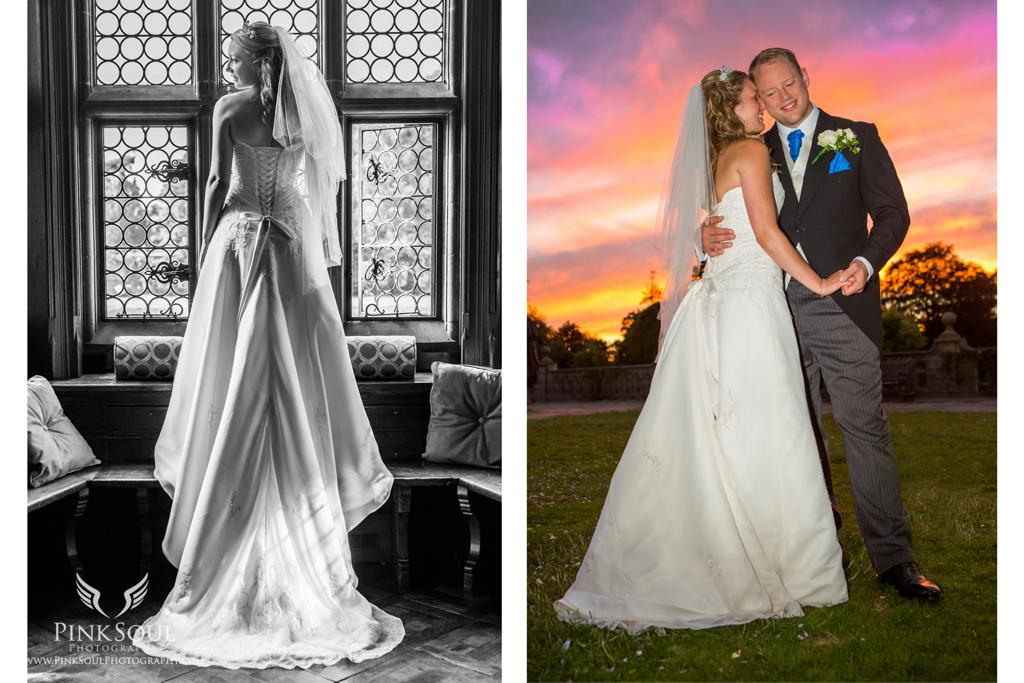face: (755, 61, 807, 124), (737, 78, 765, 131), (225, 40, 252, 87)
